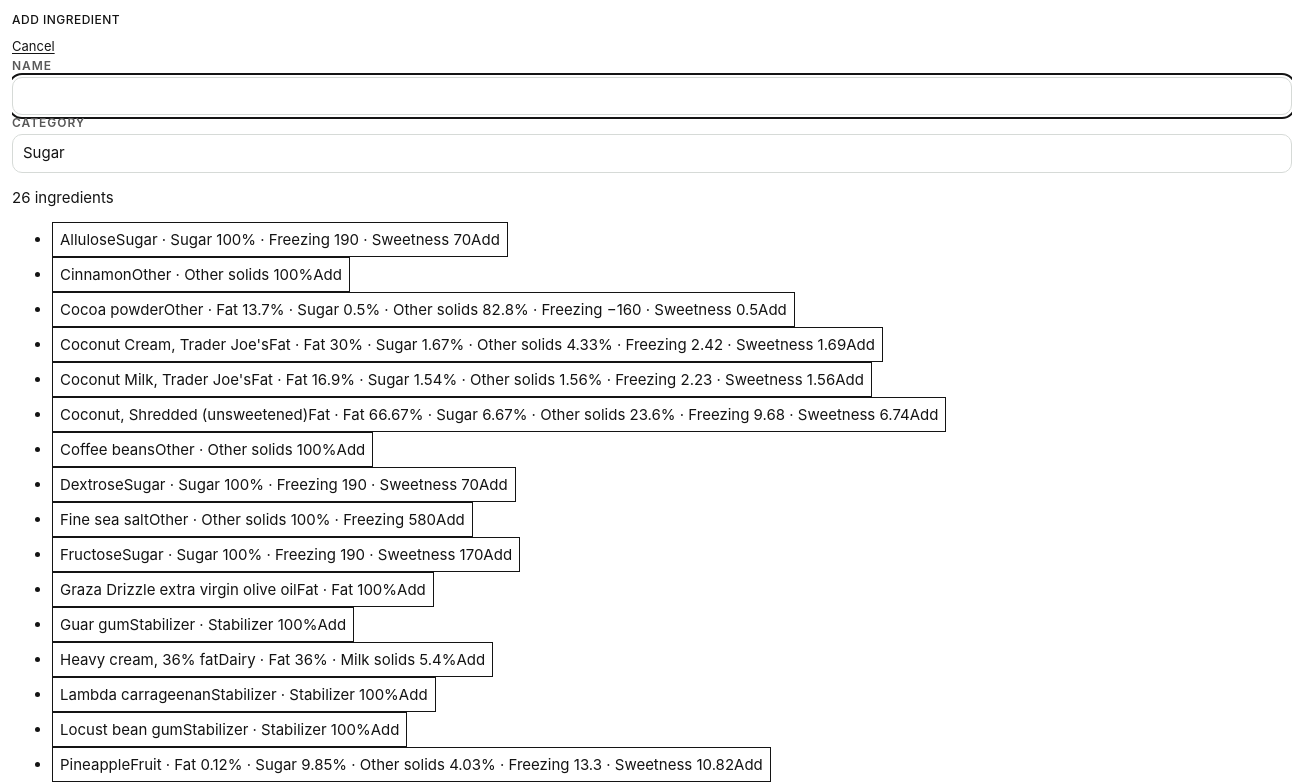
Test: IngredientPicker filters as the Ingredients place does (decision 4, D-11) › Category Sugar gives four rows
Select "Sugar" in the dropdown labelled "Category": (652, 154) [12,134,1292,173]
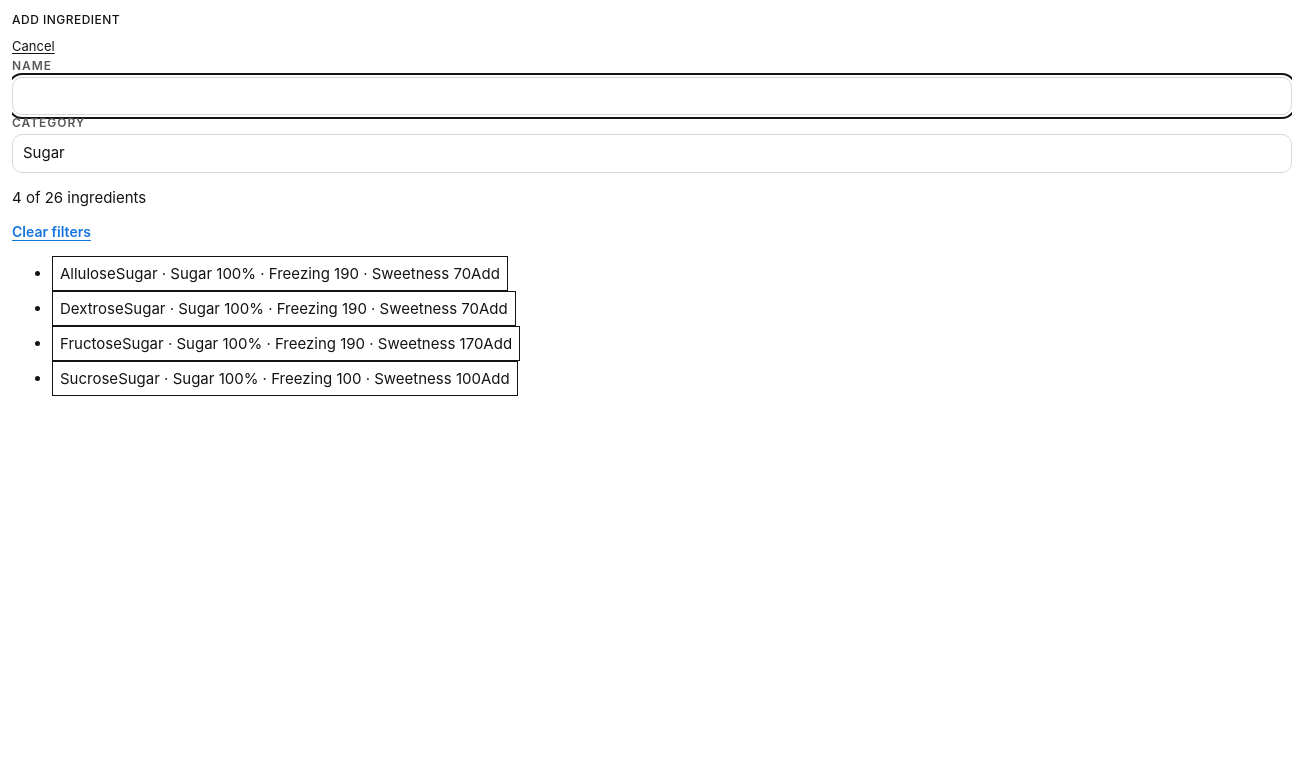
Result: the message with class "ing__count" reads "4 of 26 ingredients" at [12,188,146,207]
